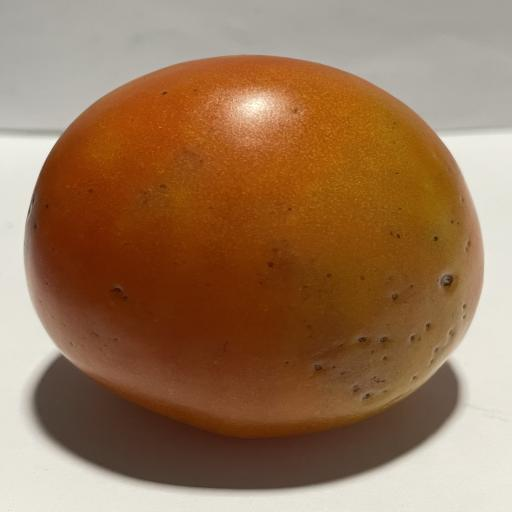ripe: (25, 56, 483, 437)
